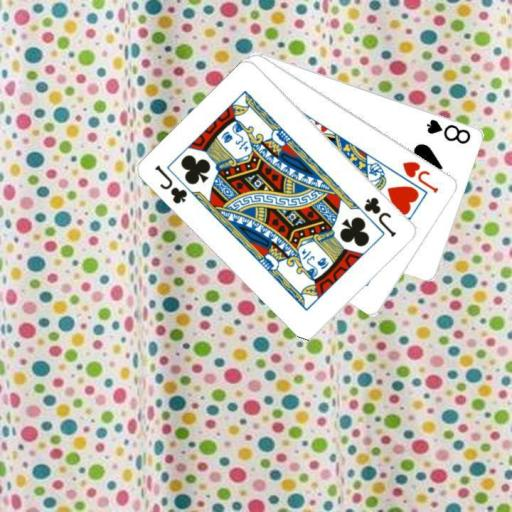card-corner: (151, 162, 190, 206), (361, 193, 398, 239), (423, 115, 473, 146), (400, 158, 440, 195)
